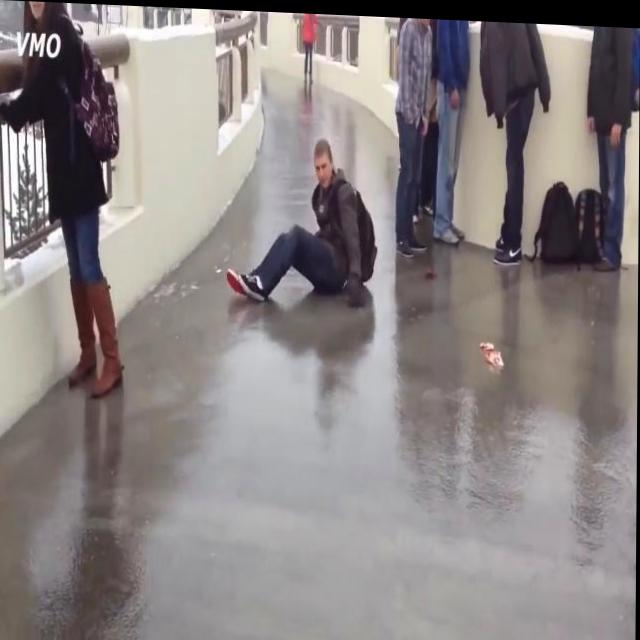fall: (226, 129, 378, 313)
